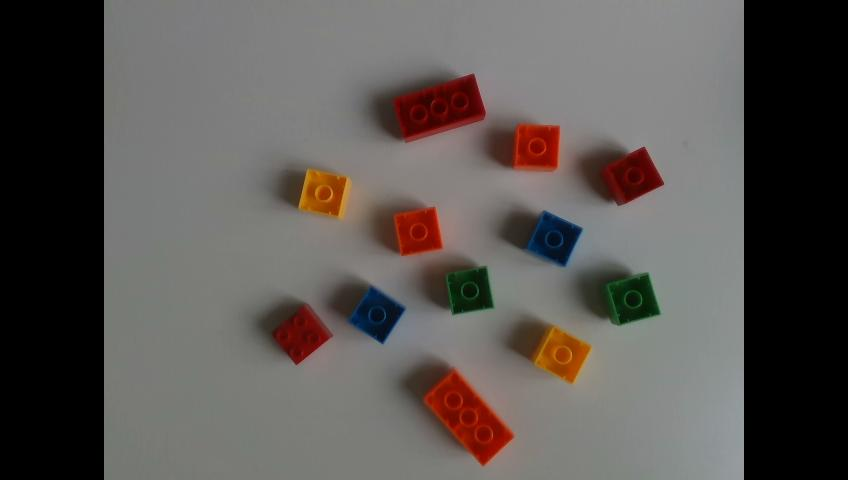2x2_blue: (520, 210, 581, 266), (351, 285, 404, 341)
2x2_green: (598, 272, 659, 323), (448, 266, 498, 314)
2x2_orange: (513, 123, 559, 167), (396, 207, 439, 254)
2x2_red: (600, 146, 663, 204), (271, 303, 331, 363)
2x2_yellow: (531, 326, 591, 381), (300, 169, 354, 218)
4x2_orange: (424, 363, 512, 464)
4x2_red: (395, 72, 484, 140)
